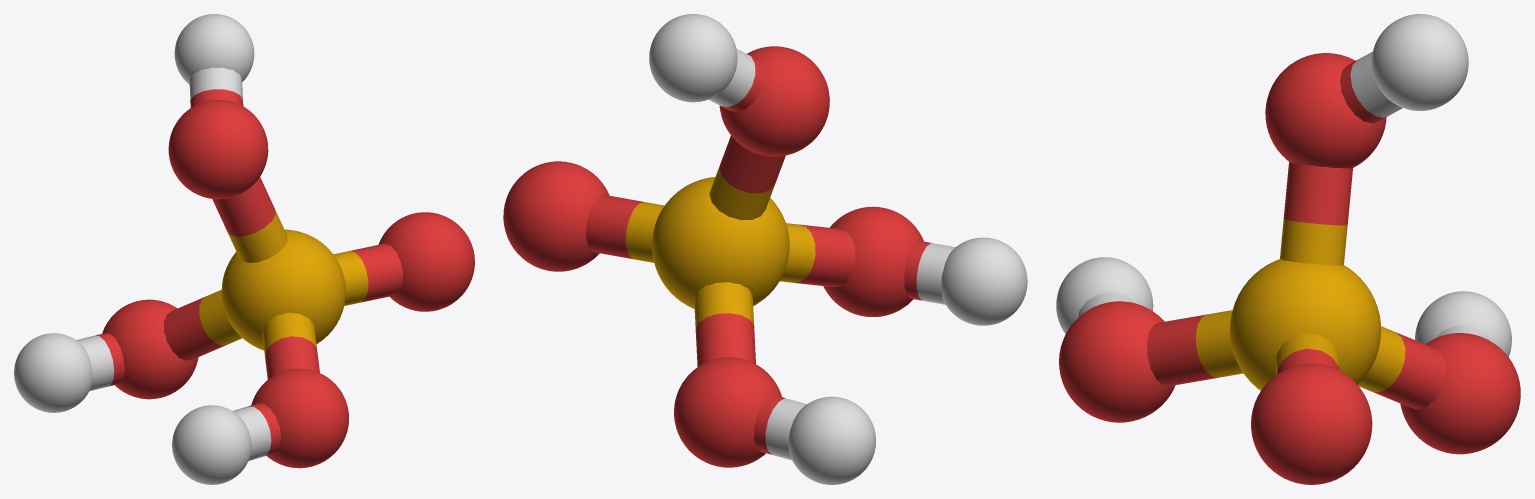
Rendered from 1004-bas-color-print_NIH3D.glb.
The picture shows the model from 3 angles, left to right: view 1: azimuth 30°, elevation 25°; view 2: azimuth 150°, elevation 25°; view 3: azimuth 270°, elevation 25°; orthographic projection. The views are drawn at different scales.
Parts seen in each view (by area): view 1: atoms, bonds; view 2: atoms, bonds; view 3: atoms, bonds.
Part boxes in pixels (x1,y1,x2,y2): atoms: (14, 14, 474, 484); bonds: (76, 67, 403, 460); atoms: (503, 14, 1027, 484); bonds: (585, 48, 955, 460); atoms: (1056, 14, 1520, 484); bonds: (1078, 51, 1490, 409).
Bounding box in the file's own units: 4.03 × 3.76 × 3.44.
